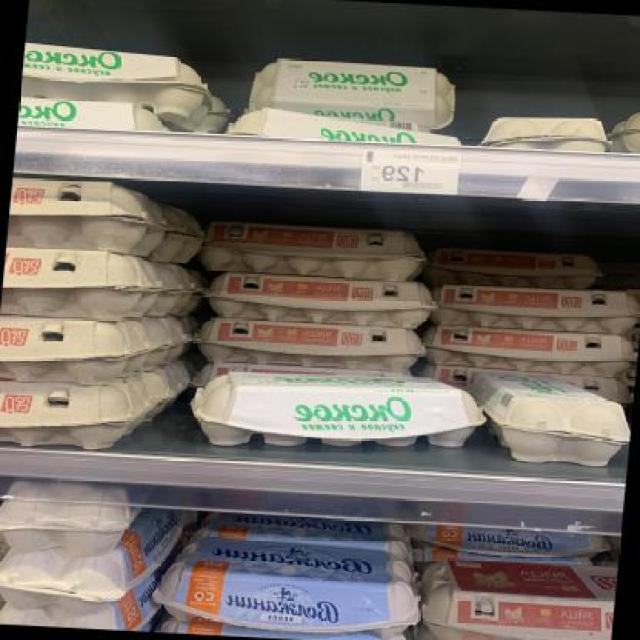Egg: (187, 366, 485, 460), (19, 41, 224, 124), (245, 51, 464, 127), (194, 219, 431, 279), (192, 316, 428, 375), (198, 270, 436, 328), (434, 280, 640, 338), (428, 322, 640, 378), (0, 477, 137, 554), (0, 543, 131, 619)
